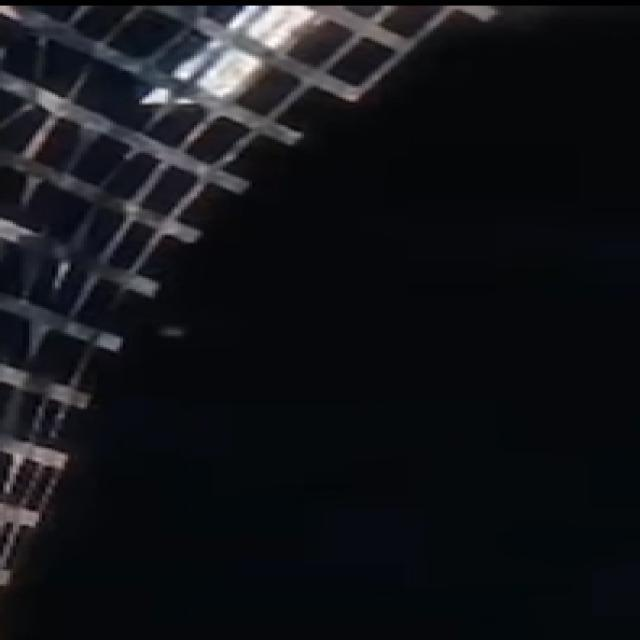large_debris: (4, 0, 498, 601)
